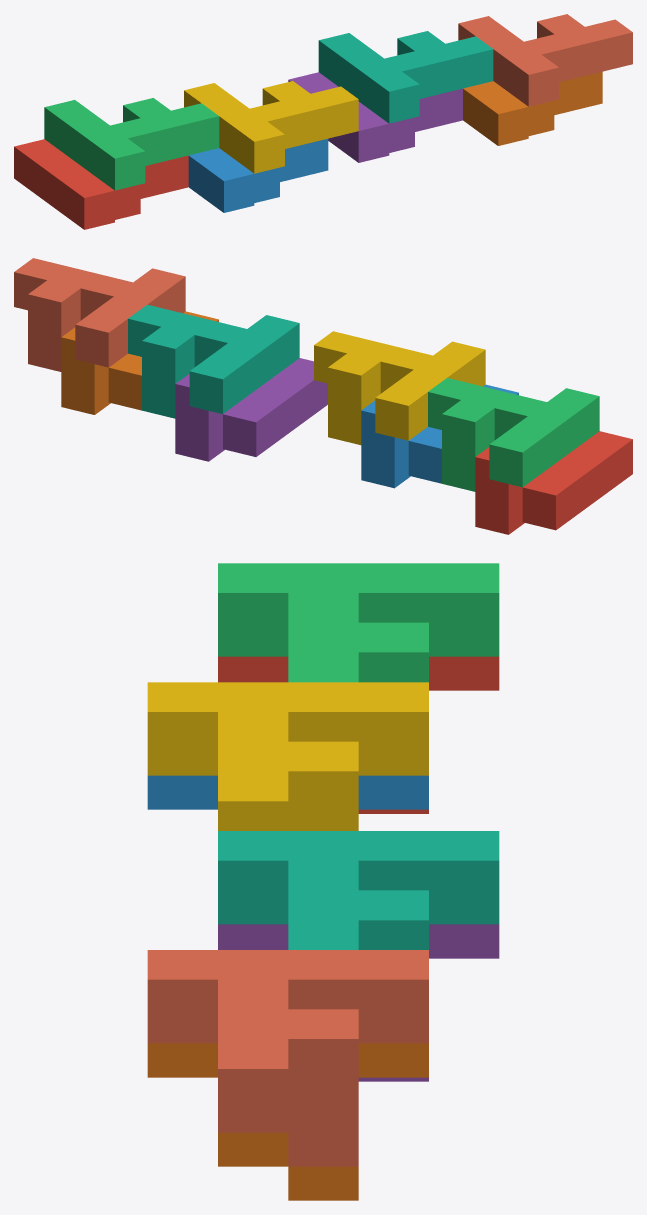
Rendered from tiling.obj.
3 views of the same model, one above another, from view 1: azimuth 30°, elevation 25°; view 2: azimuth 150°, elevation 25°; view 3: azimuth 270°, elevation 25° (orthographic). The views are drawn at different scales.
Visible parts, largest first — view 1: copy_1_domain_3, copy_1_domain_7, copy_1_domain_4, copy_1_domain_8, copy_1_domain_1, copy_1_domain_2, copy_1_domain_6, copy_1_domain_5; view 2: copy_1_domain_7, copy_1_domain_3, copy_1_domain_8, copy_1_domain_4, copy_1_domain_1, copy_1_domain_5, copy_1_domain_2, copy_1_domain_6; view 3: copy_1_domain_8, copy_1_domain_4, copy_1_domain_3, copy_1_domain_7, copy_1_domain_6, copy_1_domain_2, copy_1_domain_1, copy_1_domain_5.
Part boxes in pixels (<box>): copy_1_domain_3: <box>44,98,219,190</box>; copy_1_domain_7: <box>318,31,493,123</box>; copy_1_domain_4: <box>184,81,358,173</box>; copy_1_domain_8: <box>458,14,632,106</box>; copy_1_domain_1: <box>14,139,188,229</box>; copy_1_domain_2: <box>188,138,328,212</box>; copy_1_domain_6: <box>463,71,602,145</box>; copy_1_domain_5: <box>288,72,462,162</box>; copy_1_domain_7: <box>128,304,299,418</box>; copy_1_domain_3: <box>428,378,599,491</box>; copy_1_domain_8: <box>14,258,185,371</box>; copy_1_domain_4: <box>314,331,485,445</box>; copy_1_domain_1: <box>475,431,632,534</box>; copy_1_domain_5: <box>175,358,327,461</box>; copy_1_domain_2: <box>361,384,518,488</box>; copy_1_domain_6: <box>61,311,218,414</box>; copy_1_domain_8: <box>147,950,428,1166</box>; copy_1_domain_4: <box>147,682,428,830</box>; copy_1_domain_3: <box>218,563,499,682</box>; copy_1_domain_7: <box>218,831,499,949</box>; copy_1_domain_6: <box>147,1043,428,1200</box>; copy_1_domain_2: <box>147,775,428,809</box>; copy_1_domain_1: <box>218,656,499,813</box>; copy_1_domain_5: <box>218,924,499,1081</box>.
Size of the model in its own units: 18 by 3 by 5.
